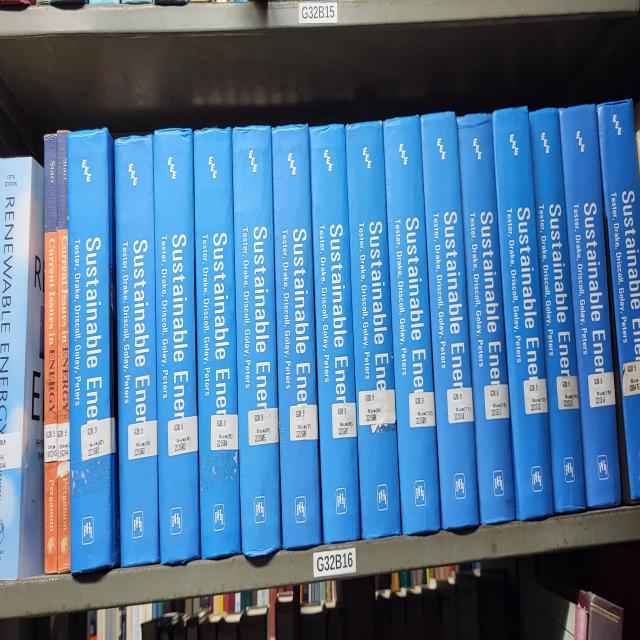Book: (492, 108, 554, 519), (420, 111, 479, 530), (560, 106, 620, 509), (458, 114, 515, 525), (384, 116, 440, 533), (68, 130, 120, 574), (346, 122, 401, 538), (530, 108, 585, 511), (232, 124, 281, 560), (310, 124, 360, 544), (272, 124, 321, 549), (154, 130, 200, 563), (194, 127, 240, 557), (115, 135, 160, 565), (0, 157, 44, 579), (598, 100, 640, 501), (44, 133, 58, 574), (58, 133, 70, 574)
Label: (81, 417, 116, 460), (359, 390, 396, 425), (128, 419, 158, 460), (168, 417, 198, 457), (248, 409, 279, 446), (290, 403, 319, 441), (588, 371, 615, 409), (448, 387, 474, 425), (211, 414, 239, 449), (484, 384, 510, 419), (409, 392, 435, 427), (331, 403, 356, 438), (524, 379, 548, 414), (0, 433, 22, 471), (556, 376, 579, 409), (622, 360, 640, 398), (44, 422, 58, 463), (58, 422, 70, 463)
